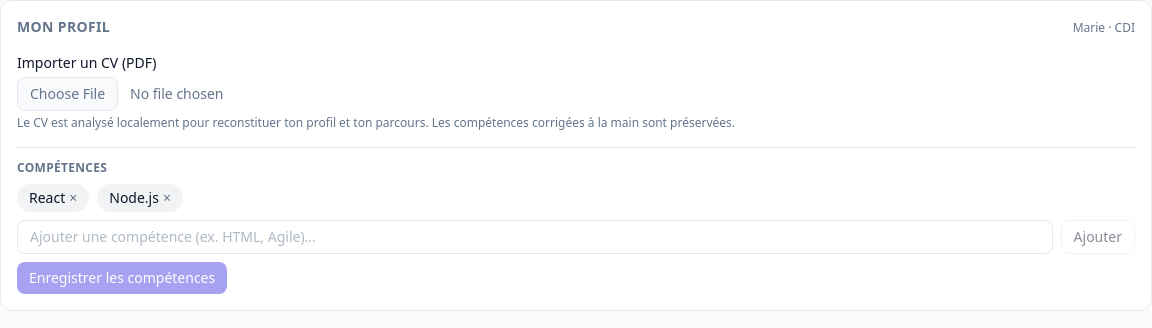
Test: ProfilePanel (OPP-158) › retire une compétence avant d'enregistrer
Expected: the list item "React" is shown, x1=29 y1=188 x2=65 y2=207
Click the button named "Retirer Node.js": (167, 198) x1=163 y1=188 x2=171 y2=208
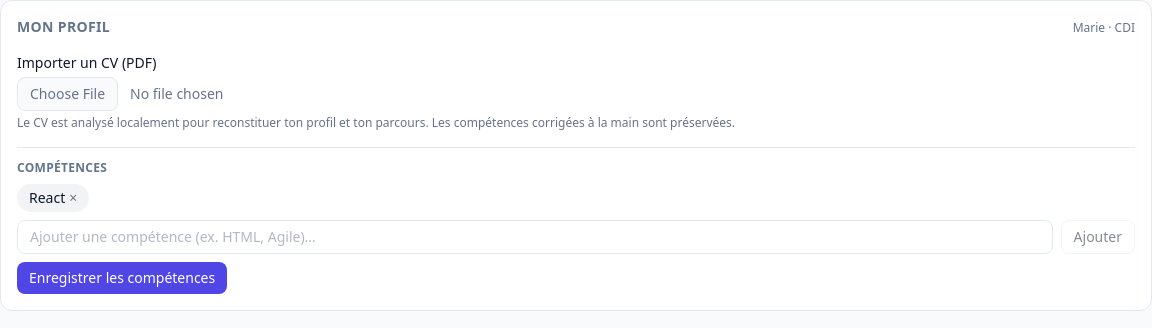
Click the button "Enregistrer les compétences": (122, 278) x1=17 y1=262 x2=227 y2=294
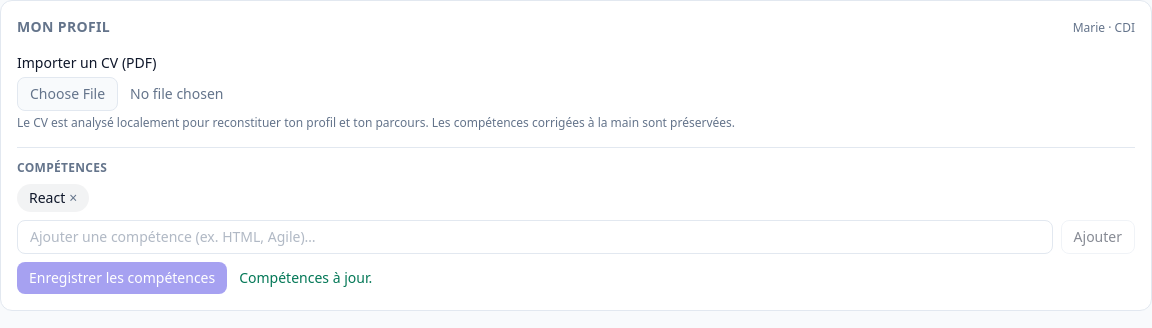
Now the text "Compétences à jour." is shown, box x1=239 y1=268 x2=372 y2=288
